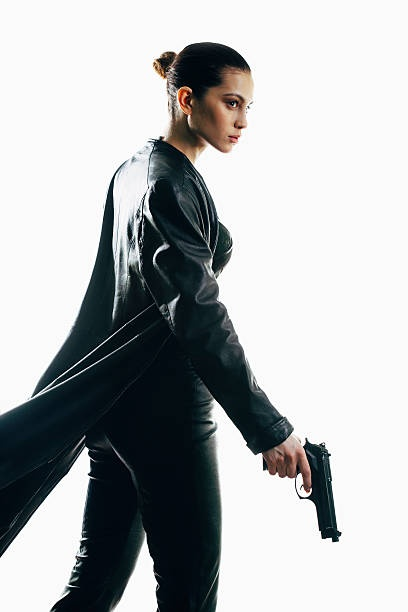person: (48, 35, 258, 612)
pistol: (260, 438, 342, 543)
